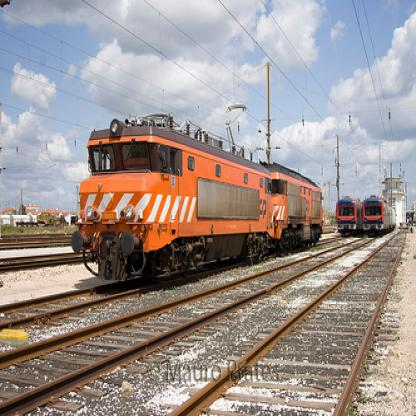train: (76, 112, 324, 275), (362, 196, 396, 231), (335, 193, 361, 234)
